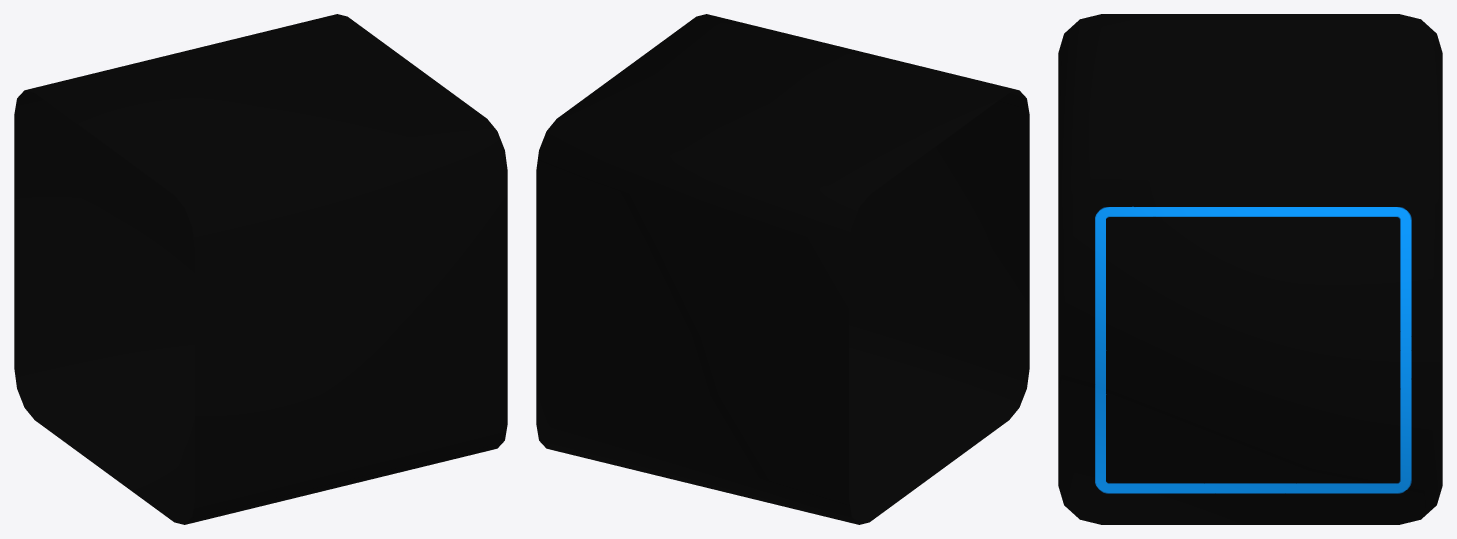
Rendered from Button_2025_edit.glb.
The picture shows the model from 3 angles, left to right: view 1: azimuth 30°, elevation 25°; view 2: azimuth 150°, elevation 25°; view 3: azimuth 270°, elevation 25°; orthographic projection. The views are drawn at different scales.
Parts seen in each view (by area): view 1: Cube; view 2: Cube; view 3: Cube.
Part boxes in pixels (x1=…): Cube: x1=14, y1=14, x2=507, y2=524; Cube: x1=536, y1=14, x2=1029, y2=524; Cube: x1=1058, y1=14, x2=1442, y2=524.
Bounding box in the file's own units: 0.65 × 0.65 × 0.65.
Materials: 1 (1 with a texture image).
